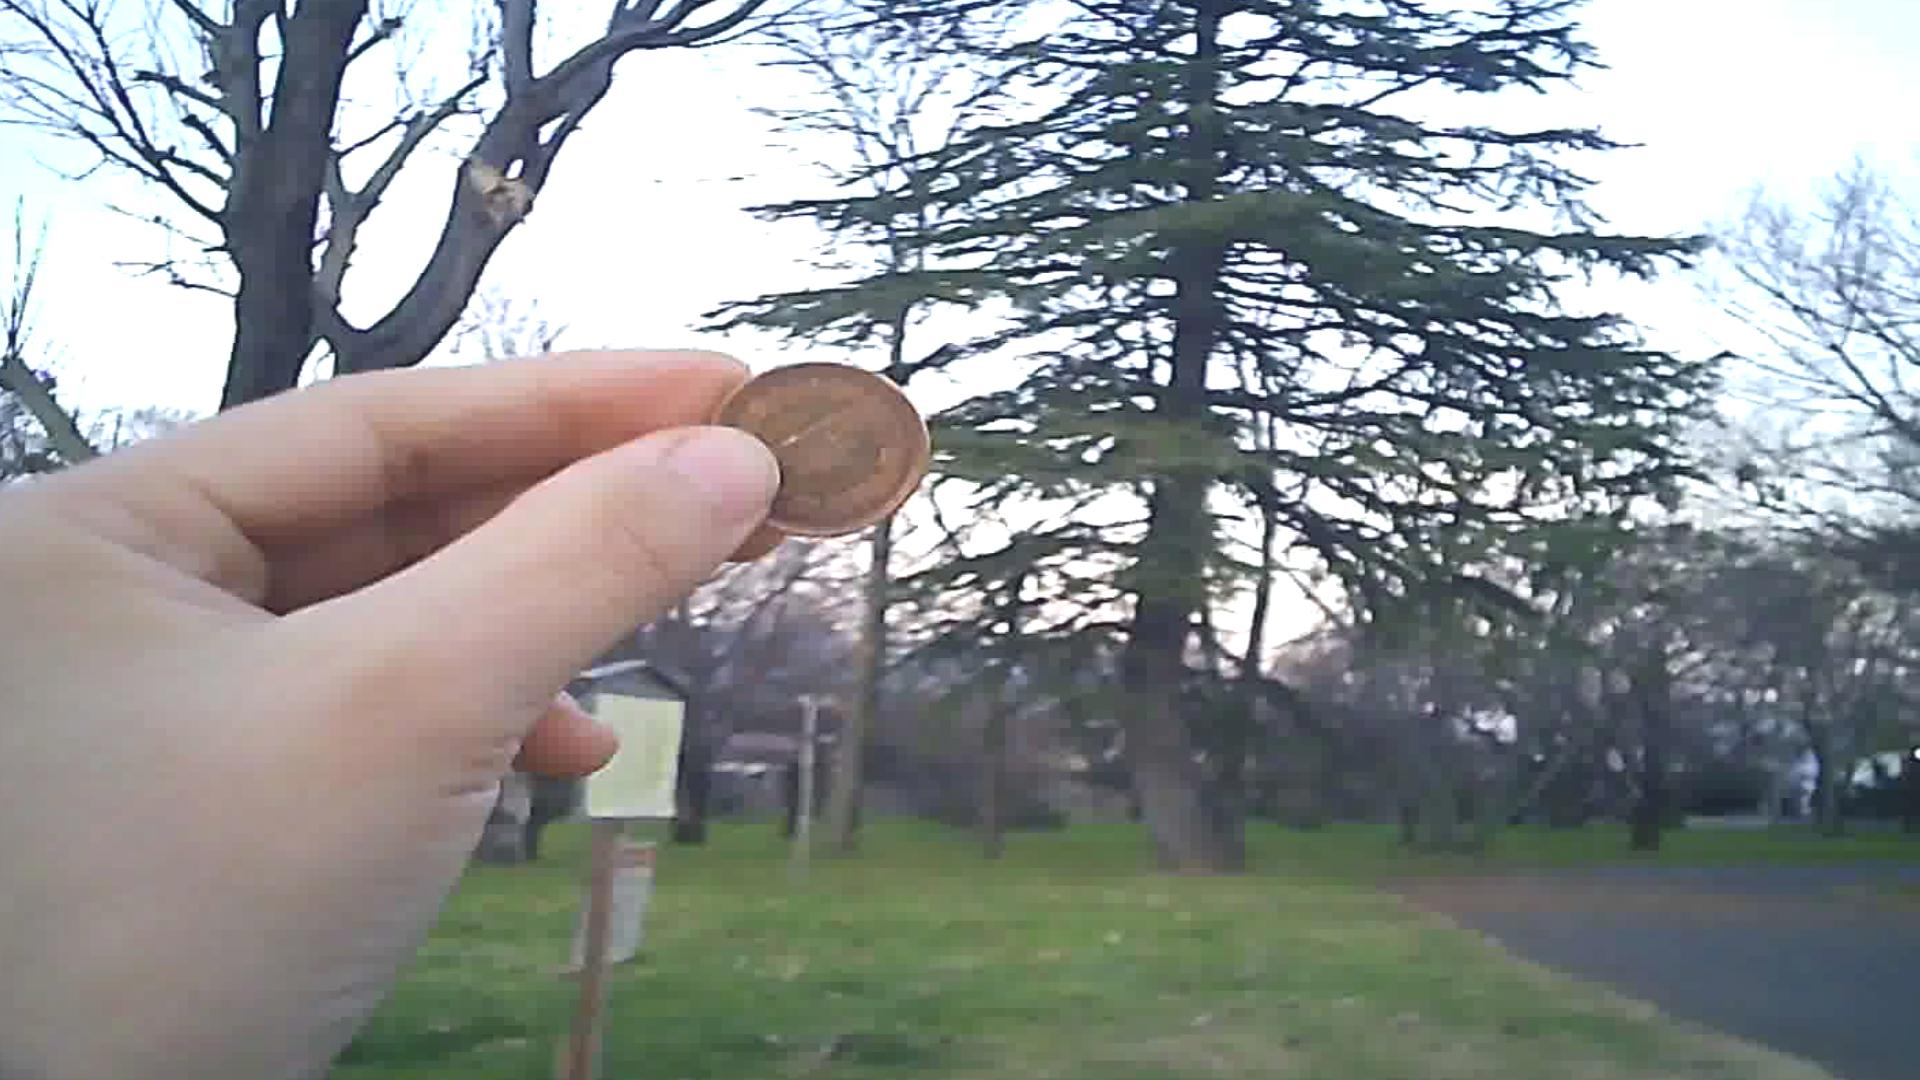10 Yen: (712, 357, 924, 547)
